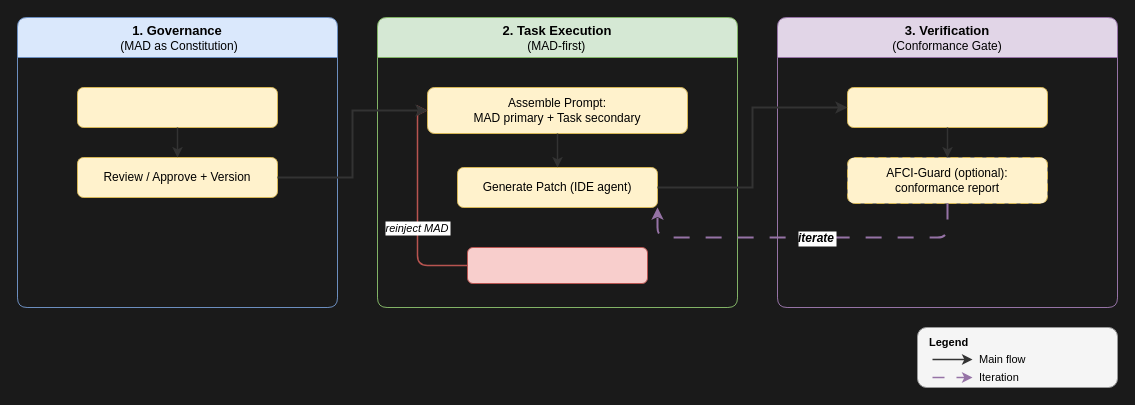
The diagram is 1135 pixels wide and 405 high, and some of its shapes have lost their labels. Each missing label, with the box of its shape:
Author / Update MAD: (76, 86, 278, 128)
CI Checks: (846, 86, 1048, 128)
Context reset (new session): (466, 246, 648, 284)
